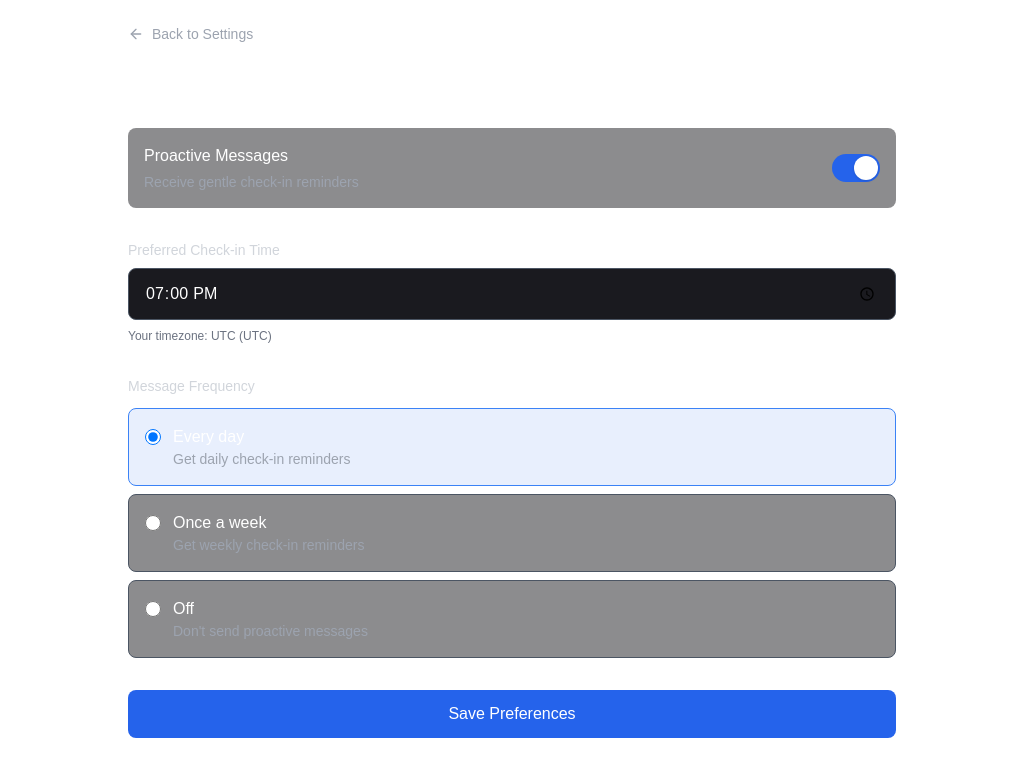
Scenario: PreferencesPage › Proactive Toggle (Task 4) › disables time and frequency inputs when proactive is off
Note: Toggle off
Click the switch at (856, 168), box [832,154,880,182]
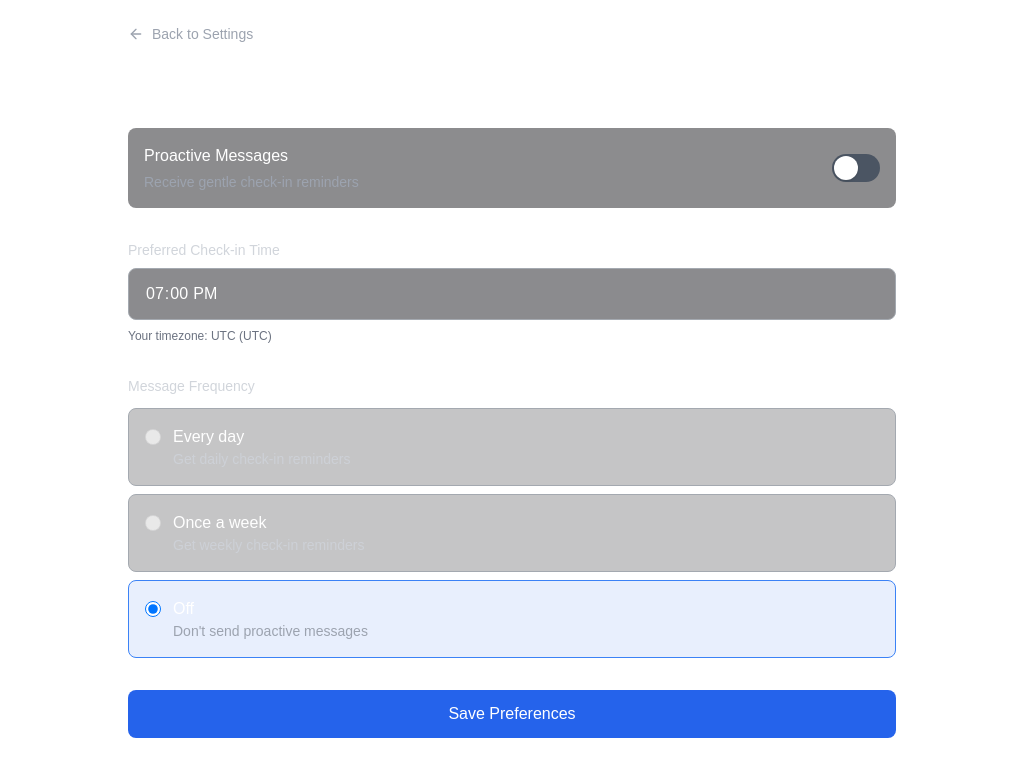
expect the time field labelled "Preferred Check-in Time" is disabled: met, box [128,268,896,320]
expect the radio button labelled "Every day Get daily check-in reminders" is disabled: met, box [145,429,161,445]
expect the radio button labelled "Once a week Get weekly check-in reminders" is disabled: met, box [145,515,161,531]
